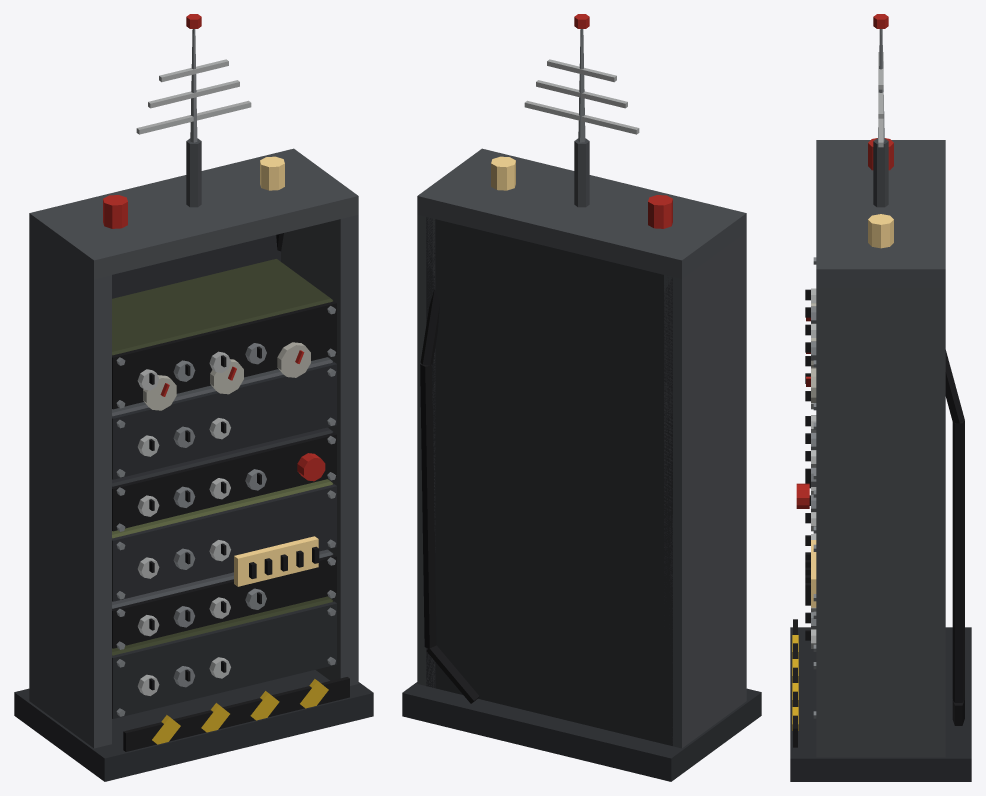
Rendered from piece_radio.fbx.
The picture shows the model from 3 angles, left to right: view 1: azimuth 30°, elevation 25°; view 2: azimuth 150°, elevation 25°; view 3: azimuth 270°, elevation 25°; orthographic projection.
Visible parts, largest first — view 1: piece_radio; view 2: piece_radio; view 3: piece_radio.
Part boxes in pixels (<box>): piece_radio: <box>14,14,373,781</box>; piece_radio: <box>402,14,761,781</box>; piece_radio: <box>790,14,971,781</box>.
Size of the model in its own units: 1.2 by 2.98 by 0.7.
